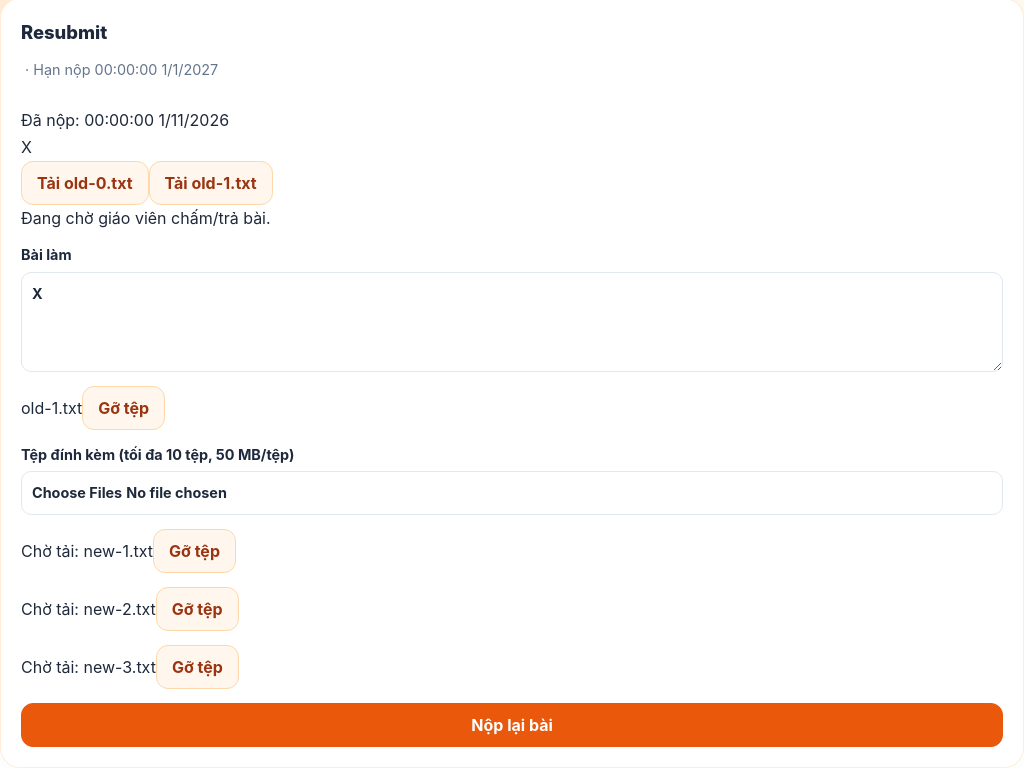
Test: API portal screens › preloads the existing answer and removes old files while uploading three files with one snapshot reload
Earlier steps of the test are not shown.
(page scrolled)
Click the button "Nộp lại bài": (512, 725) top-left (21, 703), bottom-right (1003, 747)
(page scrolled)
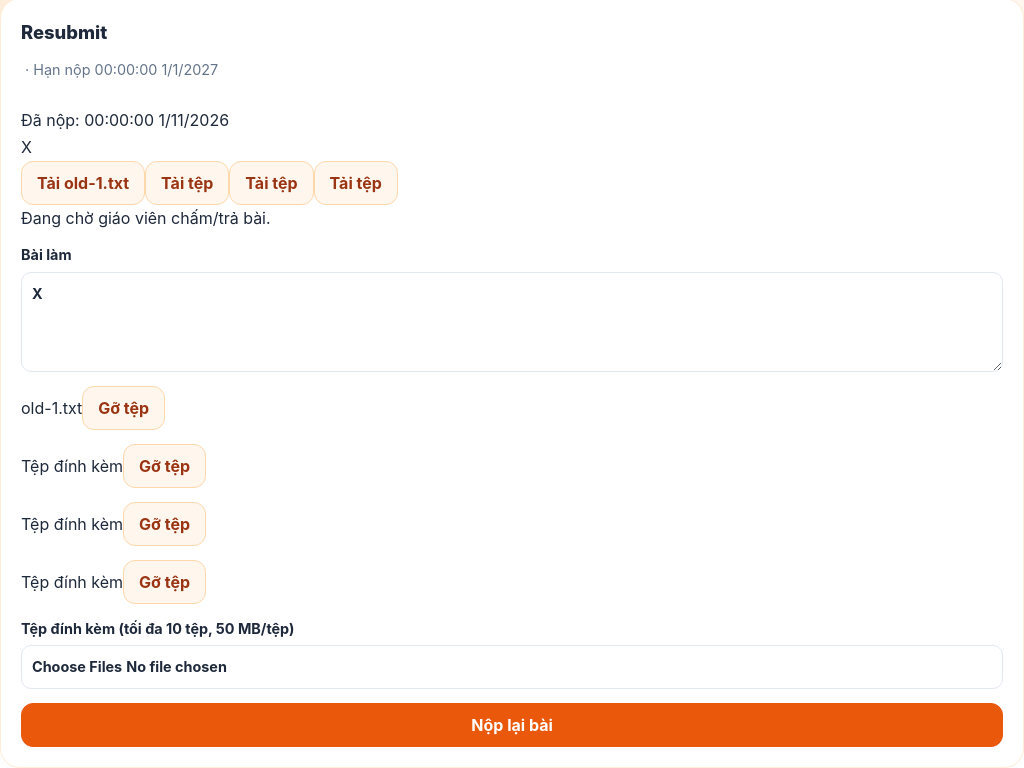
Expected: the text box labelled "Bài làm" holds "X", top-left (21, 272), bottom-right (1003, 372)
Expected: the button "Tải old-0.txt" is gone
